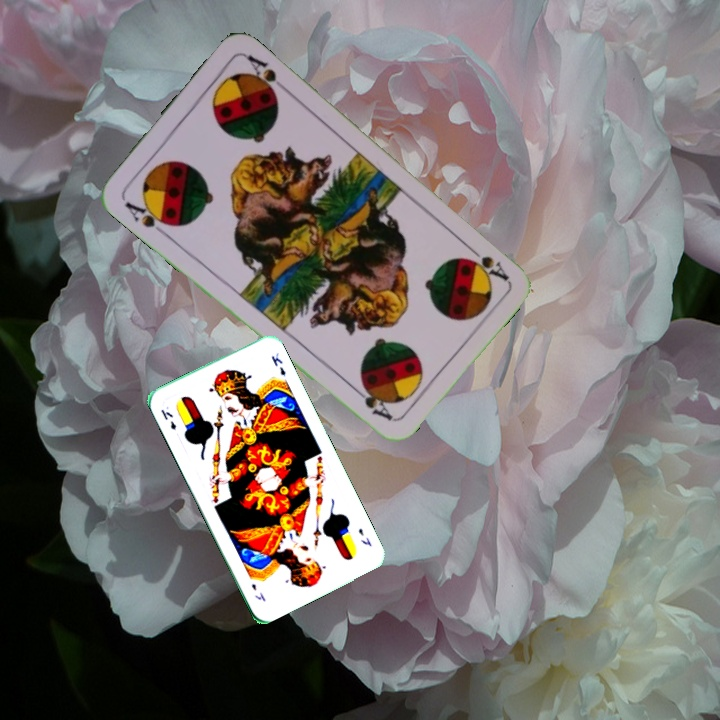EK: (157, 405, 179, 432), (354, 524, 374, 549)
SA: (121, 196, 175, 239), (461, 240, 512, 284)
